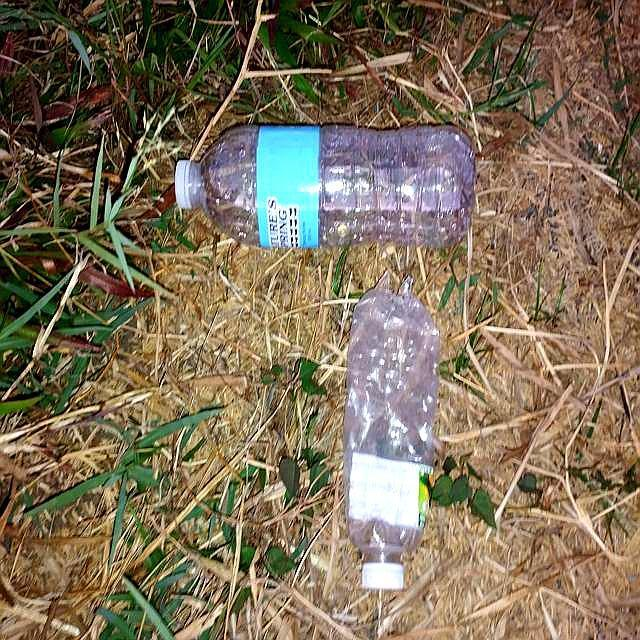Non-biodegradable: (176, 125, 476, 253), (343, 293, 442, 592)
